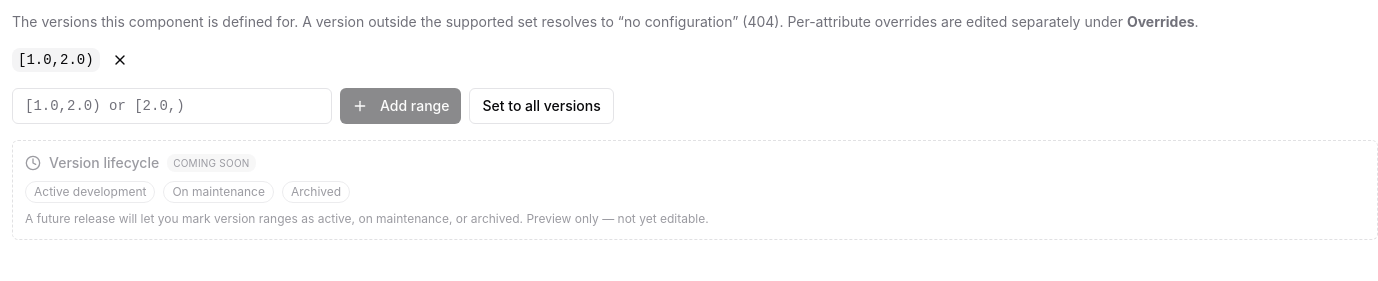
it: SupportedVersionsTab › rejects an all-versions range on add — live error, Add disabled, no draft change
Type "(,)" into the field named "New supported version range".
click(172, 106); type("(,)")  # box [12,88,332,124]
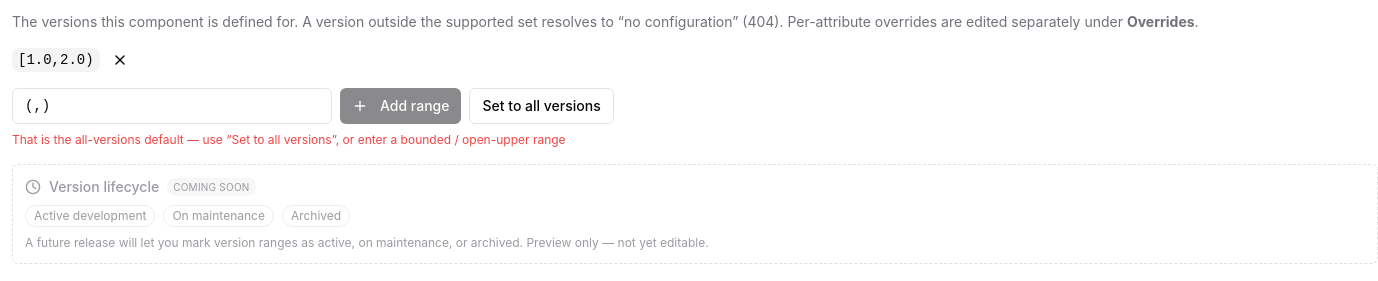
Expected: the button "Add range" is disabled, [340,88,462,124]
Result: the text "all-versions default" is shown at [12,132,566,147]
